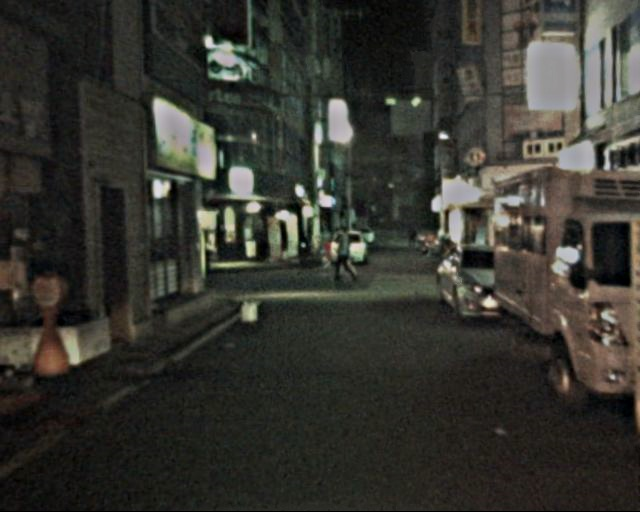person: (329, 226, 358, 287)
